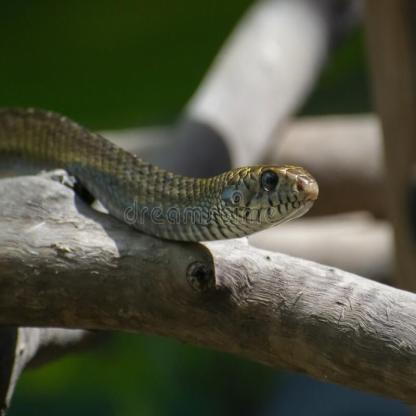Snake: (0, 101, 321, 239)
